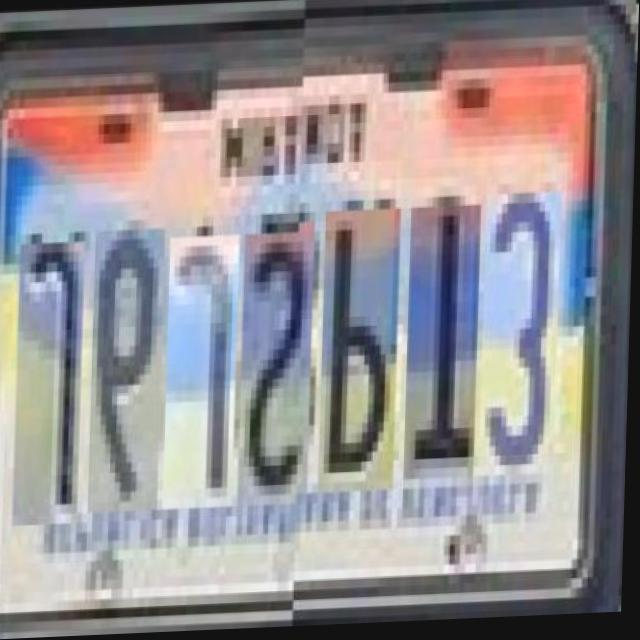3: (481, 207, 563, 491)
6: (90, 230, 167, 513)
j: (165, 236, 241, 511), (14, 243, 87, 527)
p: (320, 222, 402, 505)
s: (240, 233, 317, 508)
t: (406, 218, 483, 493)
